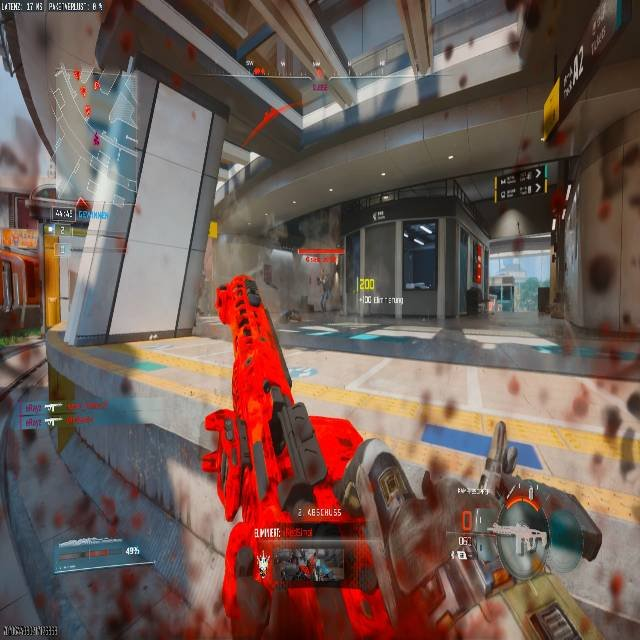player: (318, 263, 332, 310), (465, 284, 482, 317)
